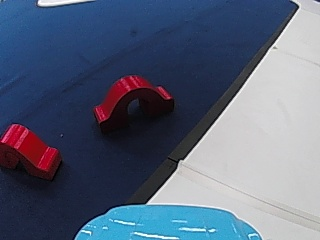bridge: (89, 72, 179, 130), (1, 121, 63, 179)
